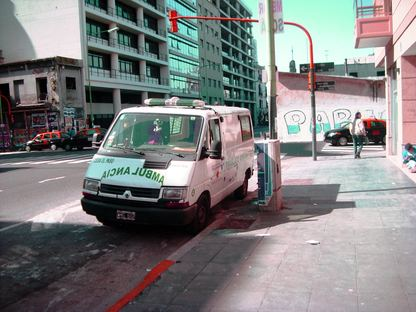ambulance: (77, 97, 257, 235)
